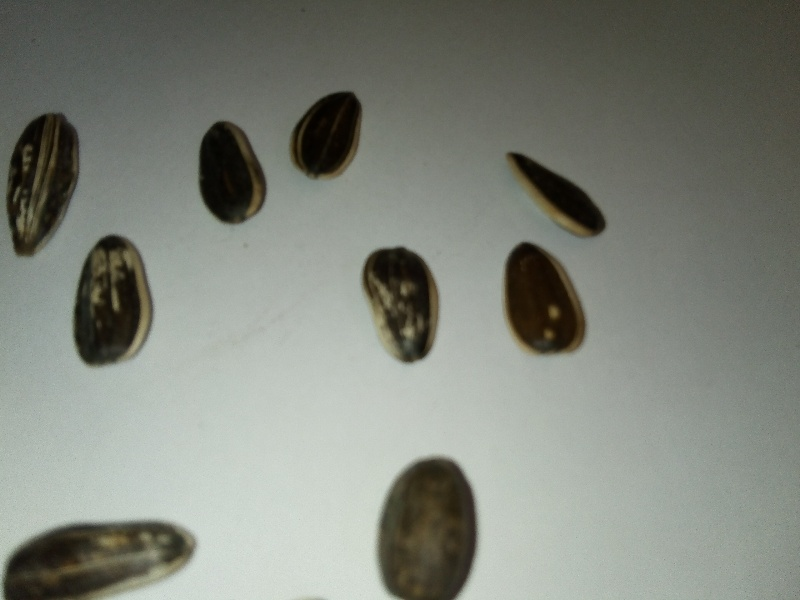girasol: (342, 240, 462, 371), (69, 230, 165, 379), (487, 238, 596, 361), (505, 142, 635, 238), (10, 111, 82, 264), (190, 116, 276, 229), (286, 79, 372, 190)
